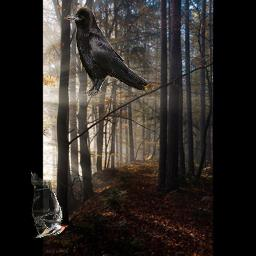Crow: (67, 6, 150, 96)
Woodpecker: (32, 172, 69, 239)
